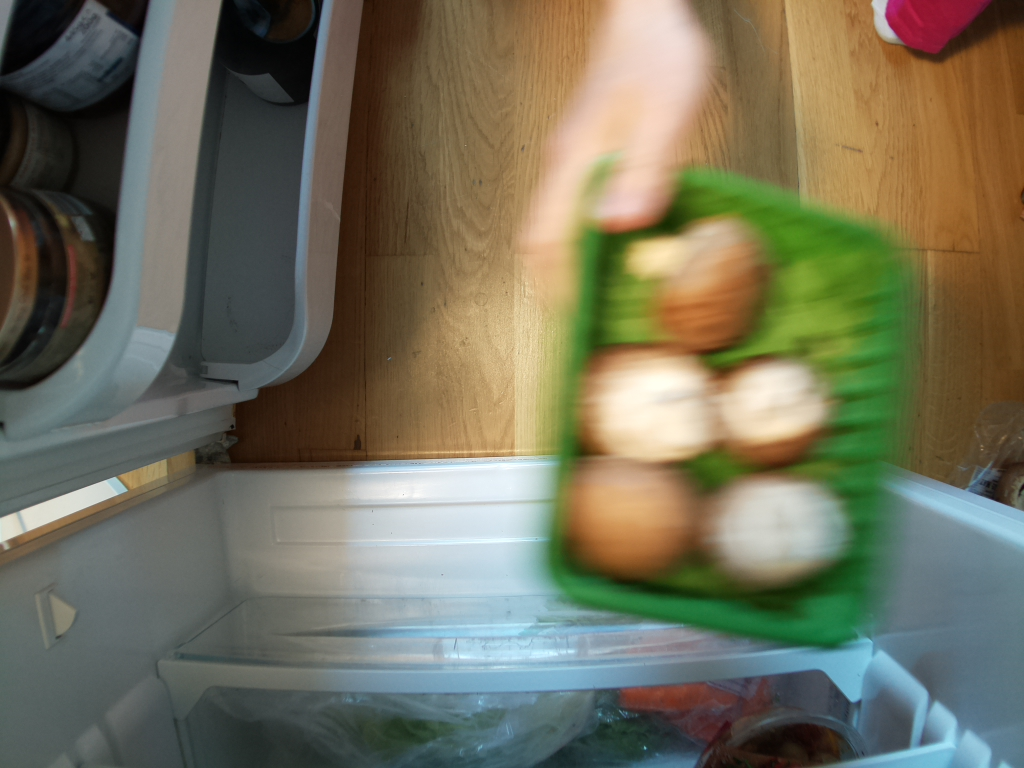mushrooms: (536, 153, 911, 649)
